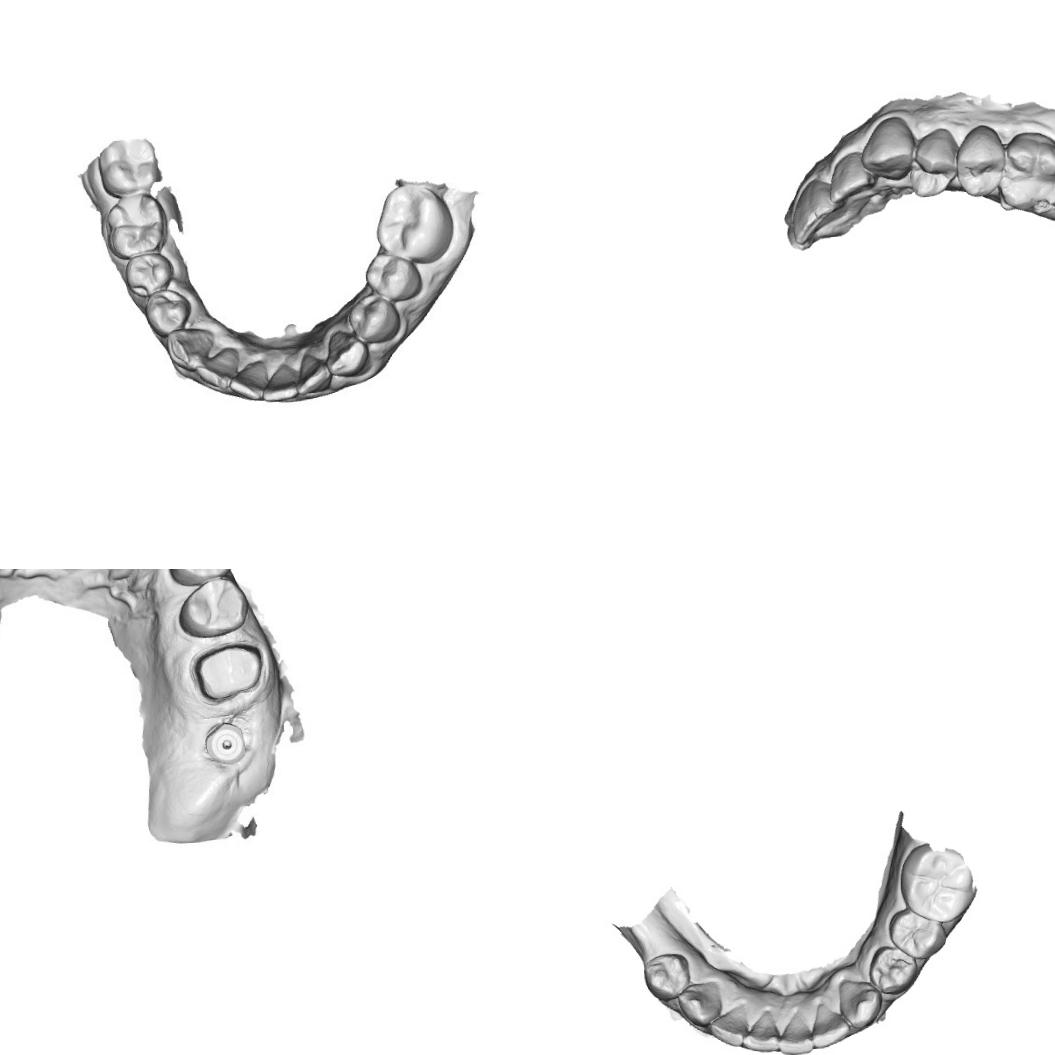canine: (857, 112, 920, 182), (324, 325, 373, 381), (836, 978, 884, 1030), (162, 324, 212, 373), (674, 980, 723, 1028)
crown: (186, 636, 265, 704)
implant: (203, 722, 251, 766)
incisor: (822, 148, 877, 204), (808, 1001, 852, 1049), (788, 188, 822, 246), (707, 1002, 749, 1048), (740, 1008, 779, 1054), (804, 174, 842, 220), (775, 1011, 813, 1055), (230, 359, 268, 396), (200, 351, 236, 386), (294, 351, 326, 386), (264, 364, 296, 396)
molar: (896, 839, 978, 925), (377, 184, 452, 264), (994, 127, 1055, 218), (98, 188, 170, 262)
premolar: (173, 577, 250, 640), (950, 120, 1010, 200), (902, 123, 962, 199), (886, 906, 947, 961), (366, 250, 423, 300), (866, 944, 919, 996), (122, 250, 178, 299), (641, 951, 691, 1002), (346, 295, 400, 342), (148, 288, 192, 338), (165, 569, 236, 585)
